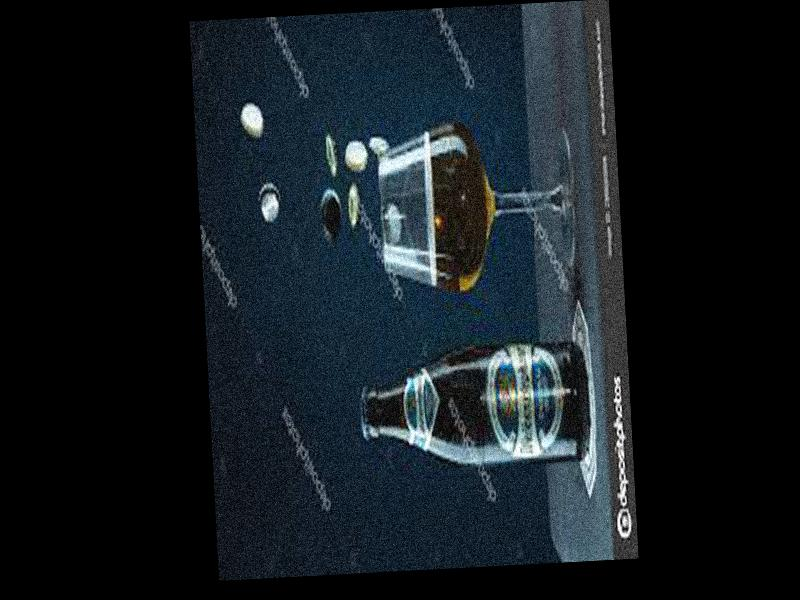Beer: (360, 343, 589, 468)
